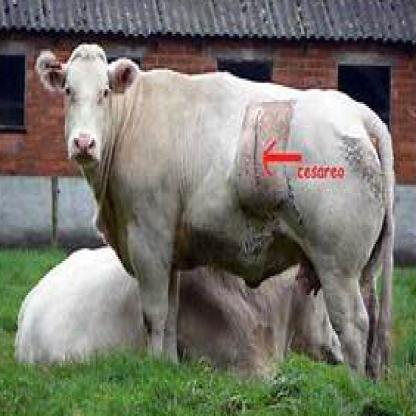cow: (34, 38, 397, 378)
